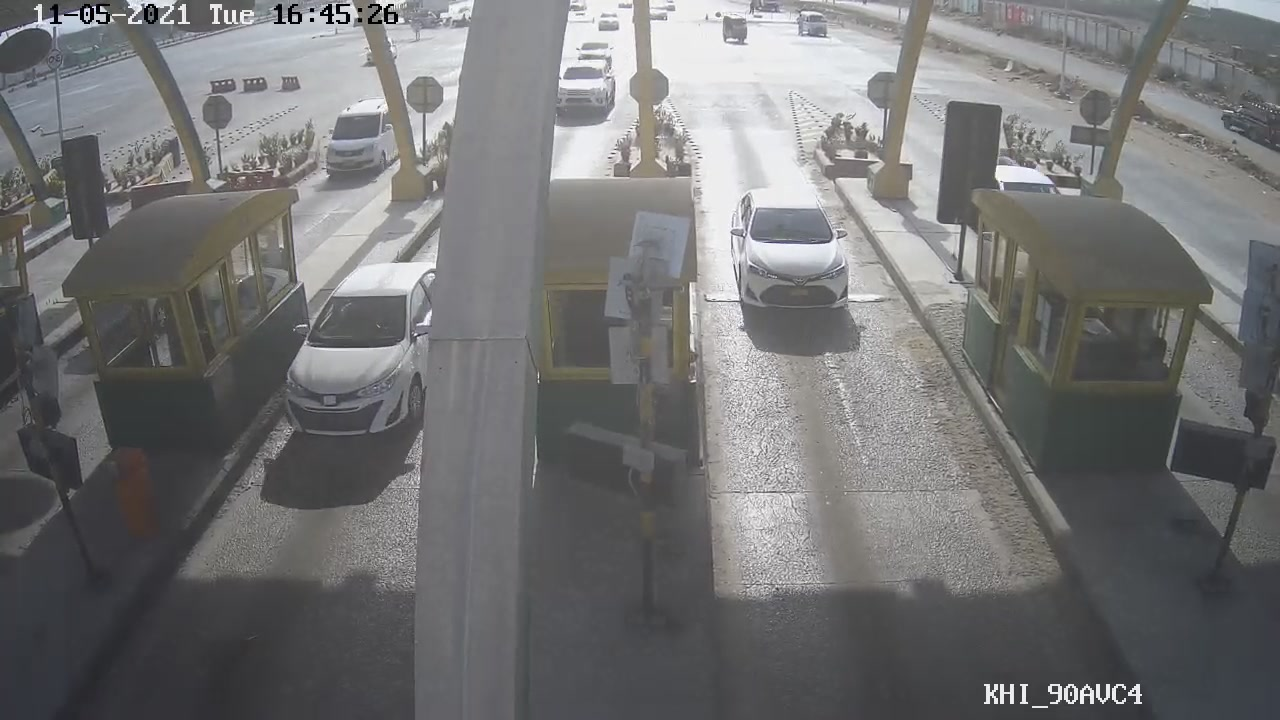F1: (724, 182, 862, 318)
